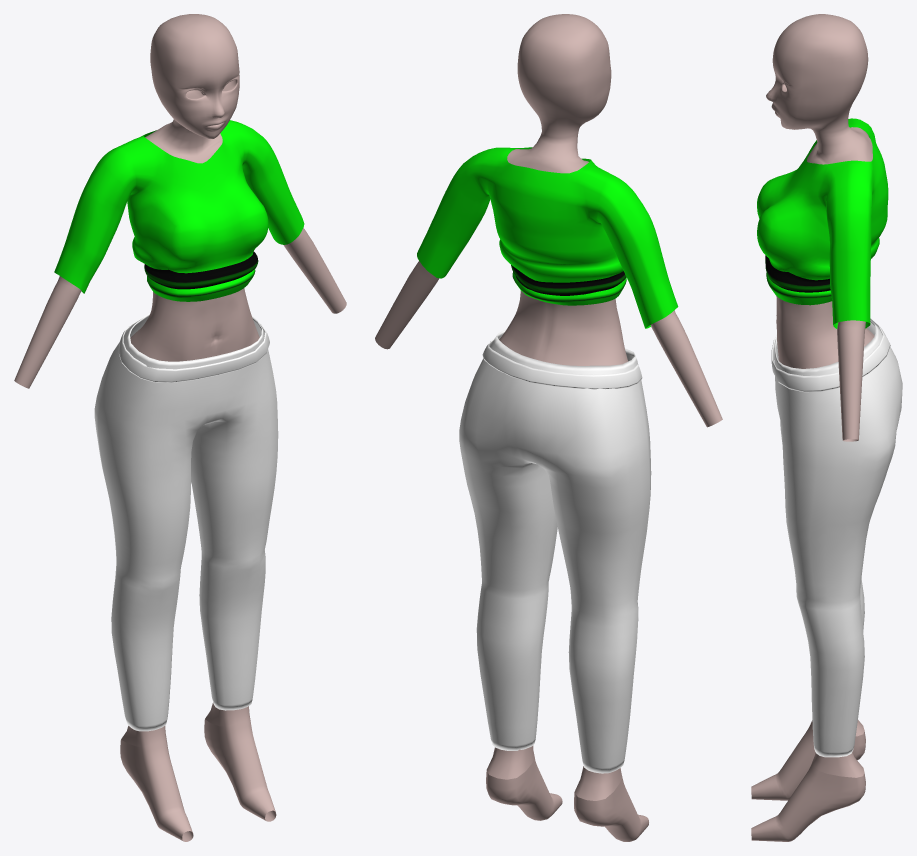
File: FBX_Strain_1.fbx
3 views of the same model, side by side, from view 1: azimuth 30°, elevation 25°; view 2: azimuth 150°, elevation 25°; view 3: azimuth 270°, elevation 25° (orthographic). The views are drawn at different scales.
Parts seen in each view (by area): view 1: polySurface20, polySurface19, polySurface13, pPlane6; view 2: polySurface20, polySurface19, polySurface13, pPlane6; view 3: polySurface20, polySurface19, polySurface13, pPlane6.
Part boxes in pixels (box(x1,y1,x2,y2)): polySurface20: box(94, 313, 278, 731); polySurface19: box(14, 14, 346, 841); polySurface13: box(54, 120, 304, 301); pPlane6: box(118, 315, 269, 382); polySurface20: box(459, 330, 651, 773); polySurface19: box(375, 14, 722, 841); polySurface13: box(417, 147, 678, 328); pPlane6: box(482, 338, 642, 389); polySurface20: box(774, 320, 902, 757); polySurface19: box(751, 14, 874, 841); polySurface13: box(757, 118, 888, 328); pPlane6: box(771, 318, 890, 392).
Size of the model in its own units: 9.93 by 22.59 by 3.88.
